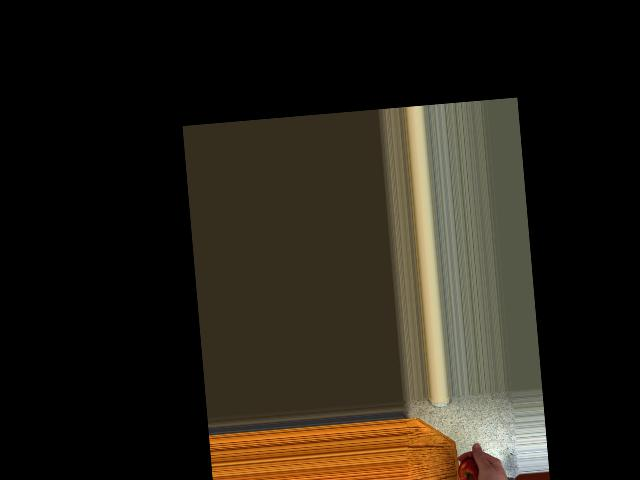apple: (457, 457, 488, 480)
